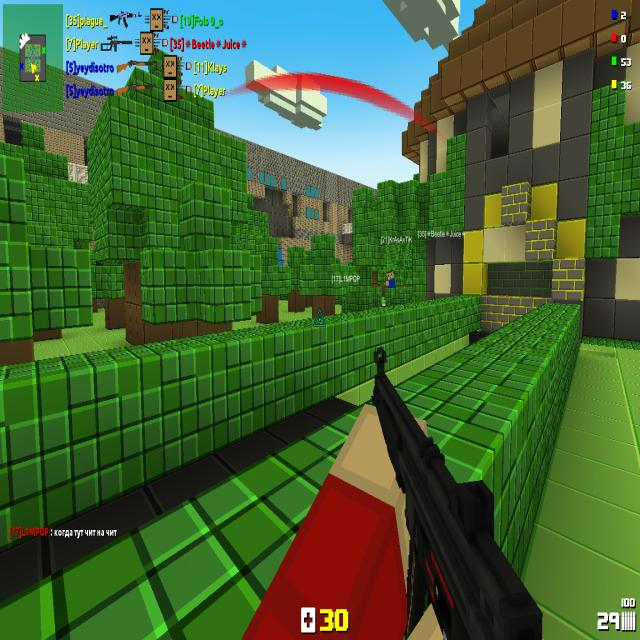enemy: (385, 270, 396, 288)
